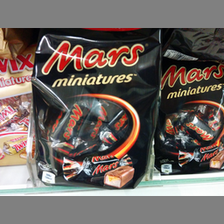chocolate: (32, 32, 155, 191), (158, 46, 224, 174), (1, 49, 38, 168)
